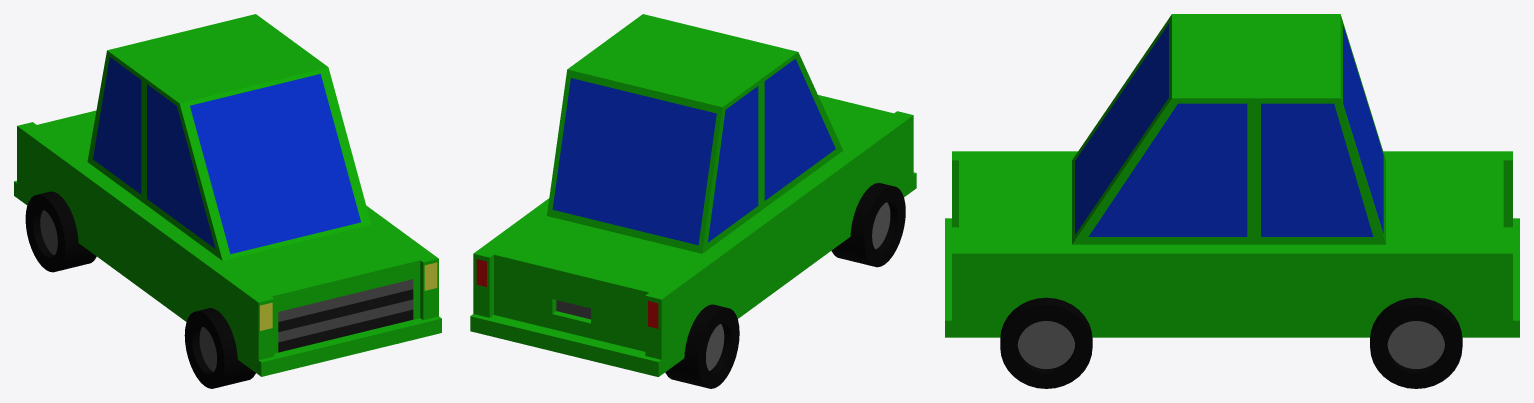
Rendered from car_one_piece.obj.
The picture shows the model from 3 angles, left to right: view 1: azimuth 30°, elevation 25°; view 2: azimuth 150°, elevation 25°; view 3: azimuth 270°, elevation 25°; orthographic projection. The views are drawn at different scales.
Parts seen in each view (by area): view 1: Tire_Cylinder; view 2: Tire_Cylinder; view 3: Tire_Cylinder.
Boxes of the visible parts, bbox=[...] form: Tire_Cylinder: bbox=[14, 14, 441, 388]; Tire_Cylinder: bbox=[470, 14, 916, 388]; Tire_Cylinder: bbox=[945, 14, 1519, 388].
Size of the model in its own units: 6 by 6.54 by 12.43.
